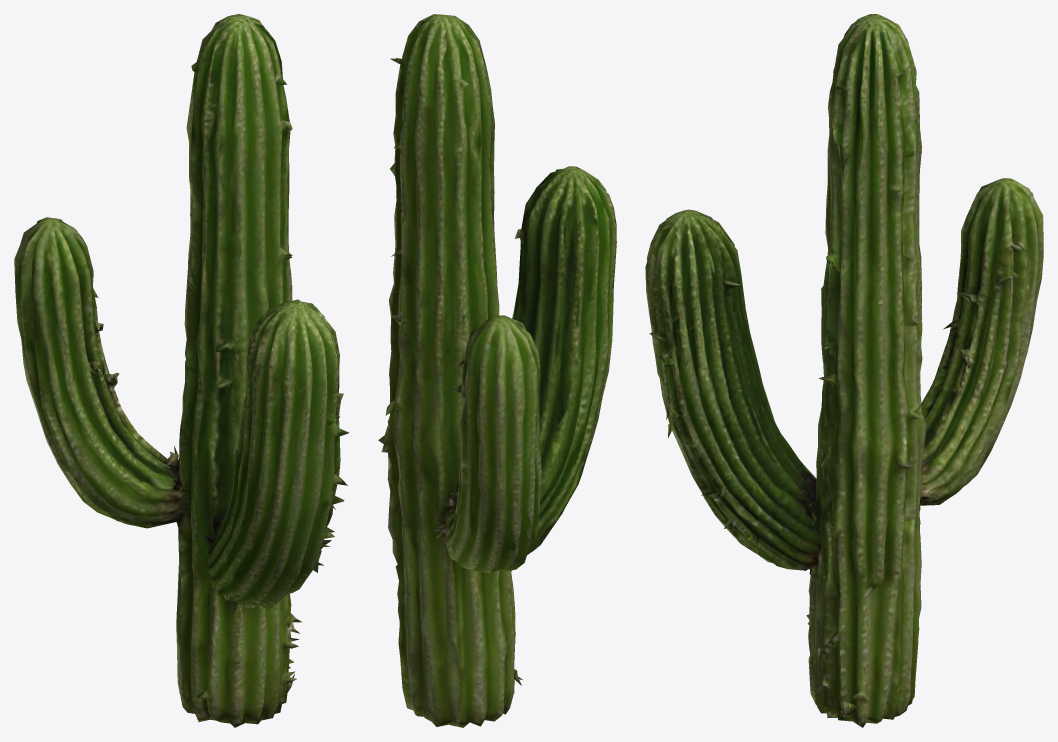
Rendered from saguaro.glb.
3 views of the same model, side by side, from view 1: azimuth 30°, elevation 25°; view 2: azimuth 150°, elevation 25°; view 3: azimuth 270°, elevation 25° (orthographic).
Visible parts, largest first — view 1: tripo_node_09248c1b-d7a9-4128-a09a-87227c96ac8b; view 2: tripo_node_09248c1b-d7a9-4128-a09a-87227c96ac8b; view 3: tripo_node_09248c1b-d7a9-4128-a09a-87227c96ac8b.
Boxes of the visible parts, x1,y1,x2,y2 form: tripo_node_09248c1b-d7a9-4128-a09a-87227c96ac8b: [14, 14, 349, 727]; tripo_node_09248c1b-d7a9-4128-a09a-87227c96ac8b: [378, 14, 616, 727]; tripo_node_09248c1b-d7a9-4128-a09a-87227c96ac8b: [645, 14, 1043, 727].
Bounding box in the file's own units: 0.3162 × 1 × 0.521.
1 material, 1 textured.
